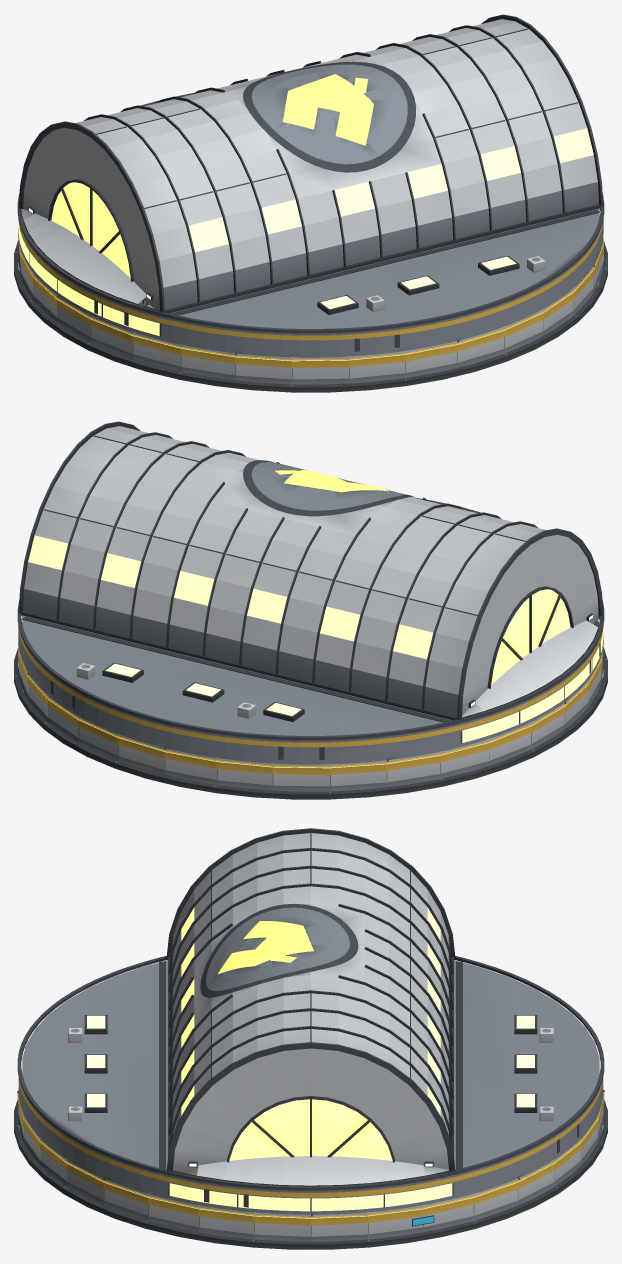
Rendered from residence_tube_xl.glb.
The picture shows the model from 3 angles, top to bottom: view 1: azimuth 30°, elevation 25°; view 2: azimuth 150°, elevation 25°; view 3: azimuth 270°, elevation 25°; orthographic projection.
Parts seen in each view (by area): view 1: Roof, Base, Wall_21, Wall_20, Wall_22, Wall_19, Wall_23, Upper_21, Upper_20, Wall_18, Upper_19, Wall_24 (+15 smaller); view 2: Roof, Base, Wall_10, Wall_11, Wall_09, Wall_12, Wall_08, Upper_11, Upper_09, Wall_13, Upper_12, Upper_10 (+15 smaller); view 3: Roof, Base, Wall_00, Wall_31, Wall_30, Wall_01, Upper_00, Upper_31, Wall_29, Upper_01, Wall_02, Upper_02 (+14 smaller).
Boxes of the visible parts, x1,y1,x2,y2 form: Roof: (17, 14, 604, 333); Base: (14, 240, 607, 392); Wall_21: (291, 356, 349, 384); Wall_20: (235, 353, 291, 384); Wall_22: (349, 350, 405, 383); Wall_19: (181, 344, 235, 380); Wall_23: (405, 340, 457, 377); Upper_21: (292, 332, 348, 357); Upper_20: (235, 329, 291, 357); Wall_18: (132, 331, 181, 371); Upper_19: (181, 321, 235, 352); Wall_24: (457, 326, 504, 367); Roof: (17, 421, 604, 740); Base: (14, 647, 607, 799); Wall_10: (272, 763, 330, 791); Wall_11: (330, 760, 386, 791); Wall_09: (216, 757, 272, 790); Wall_12: (386, 751, 440, 787); Wall_08: (164, 747, 216, 784); Upper_11: (330, 736, 386, 764); Upper_09: (217, 734, 272, 763); Wall_13: (440, 738, 489, 778); Upper_12: (386, 728, 440, 759); Upper_10: (273, 739, 329, 764); Roof: (17, 828, 604, 1190); Base: (14, 1100, 607, 1249); Wall_00: (311, 1212, 368, 1241); Wall_31: (253, 1212, 310, 1241); Wall_30: (198, 1205, 253, 1239); Wall_01: (368, 1205, 423, 1239); Upper_00: (311, 1188, 367, 1214); Upper_31: (254, 1188, 310, 1214); Wall_29: (148, 1193, 198, 1232); Upper_01: (368, 1181, 422, 1211); Wall_02: (423, 1193, 473, 1232); Upper_02: (423, 1170, 473, 1204).
Size of the model in its own units: 25.74 by 9.02 by 25.74.
